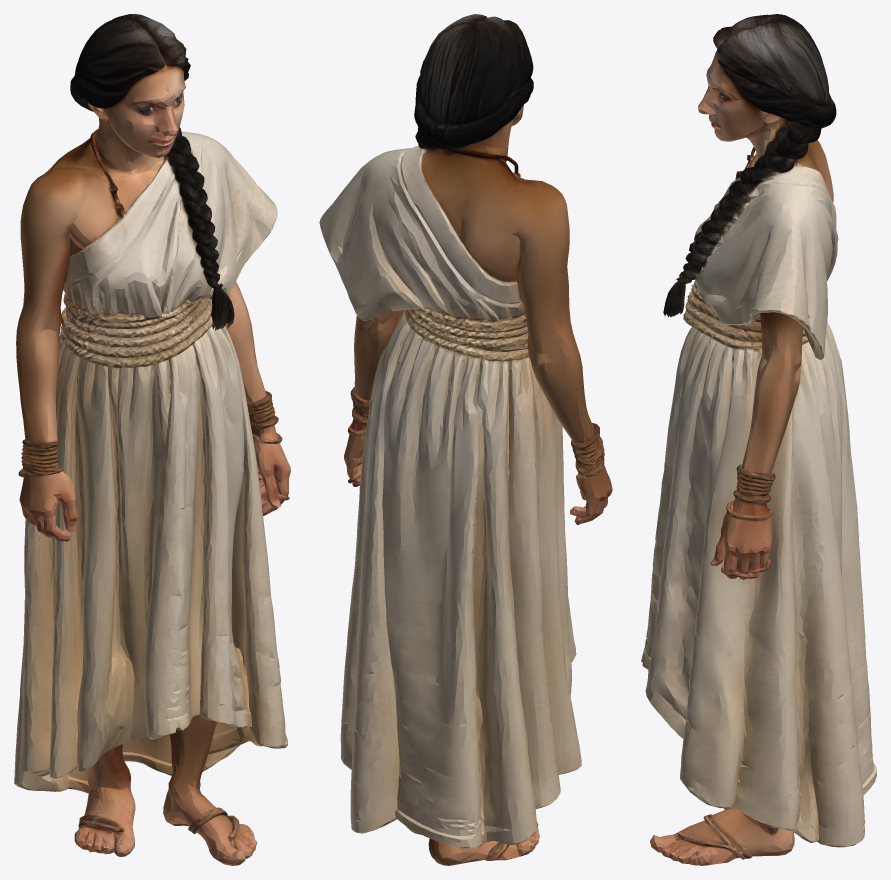
Rendered from uruk_water_carrier_rodin_source.glb.
3 views of the same model, side by side, from view 1: azimuth 30°, elevation 25°; view 2: azimuth 150°, elevation 25°; view 3: azimuth 270°, elevation 25° (orthographic).
Parts seen in each view (by area): view 1: model; view 2: model; view 3: model.
Part boxes in pixels (box(x1,y1,x2,y2)): model: box(14, 14, 290, 865); model: box(319, 14, 612, 865); model: box(641, 14, 876, 865).
Bounding box in the file's own units: 0.6475 × 1.9 × 0.5005.
Materials: 1 (1 with a texture image).
